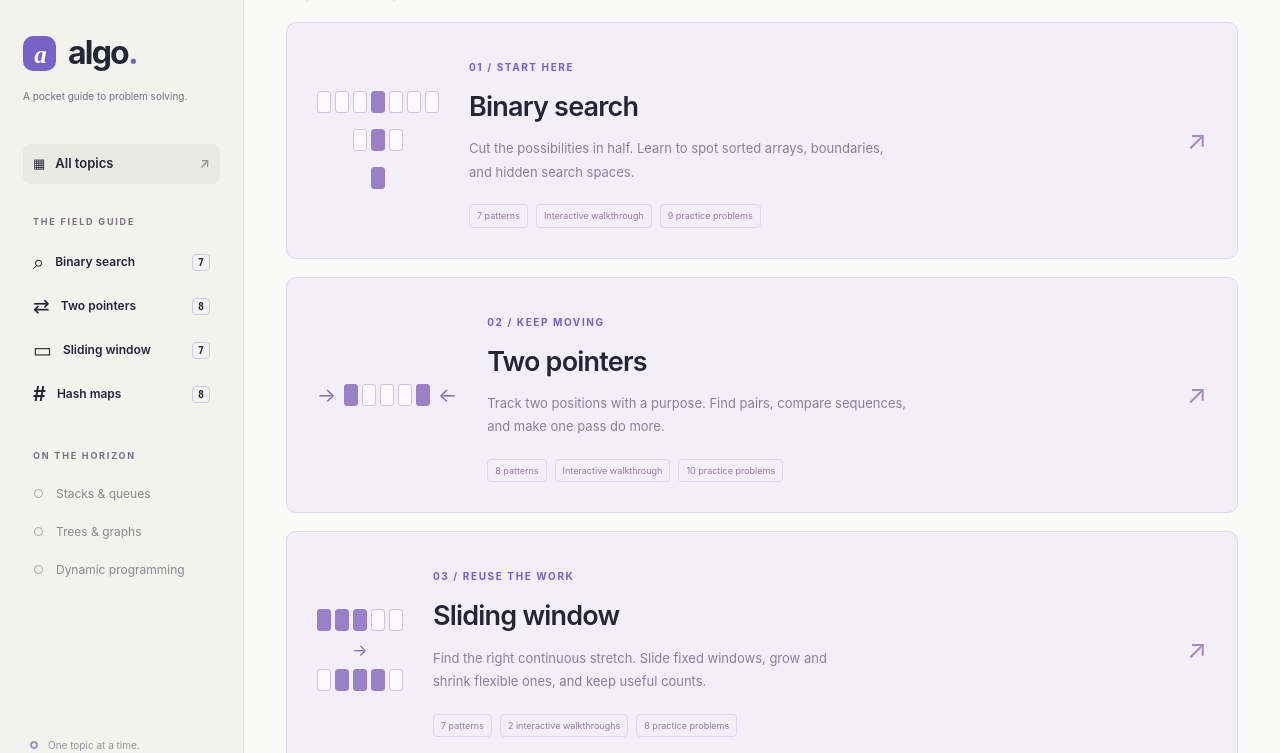
Test: two pointers topic › opens from the topic list and keeps binary search available
The image size is (1280, 753).
(page scrolled)
Click the link "02 / Keep moving": (762, 395) [286,276,1238,513]
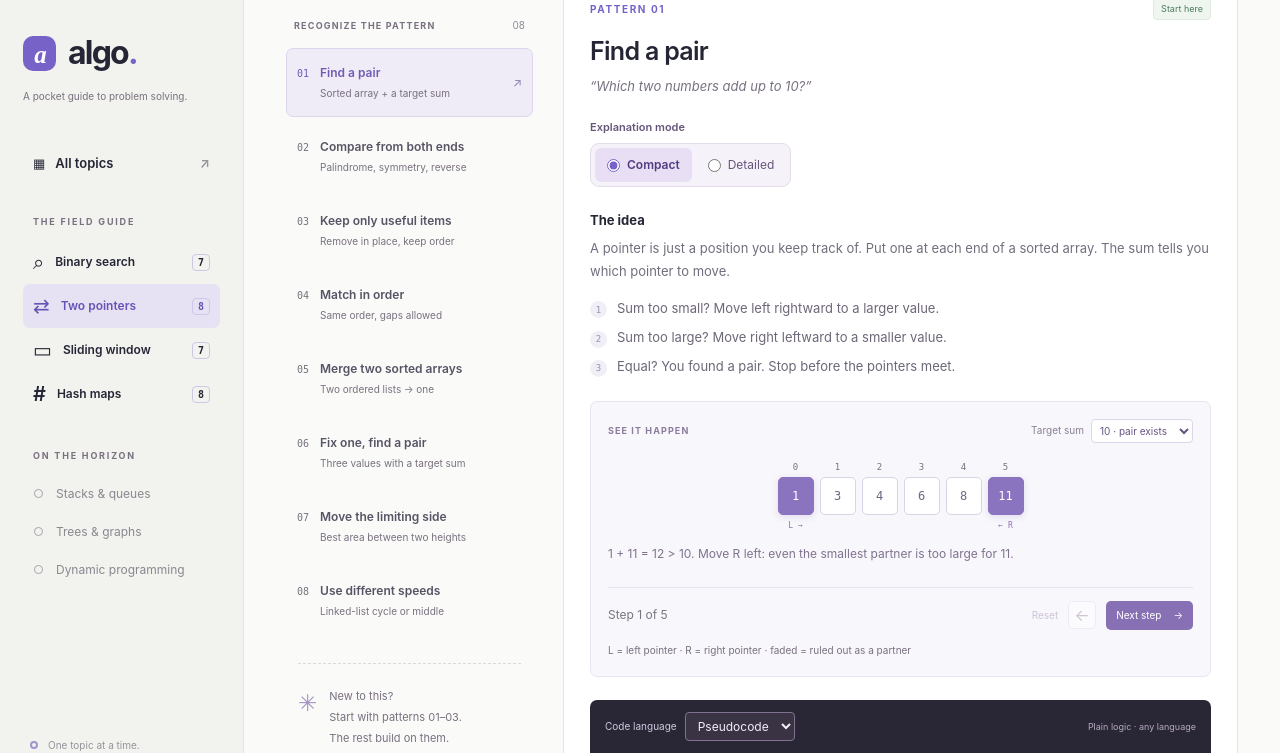
Check: the element named "Interactive two pointers" is shown, box [590,401,1211,677]
Click the link with aria-label "Binary search, 7 patterns": (122, 262) [33,250,210,274]
(page scrolled)
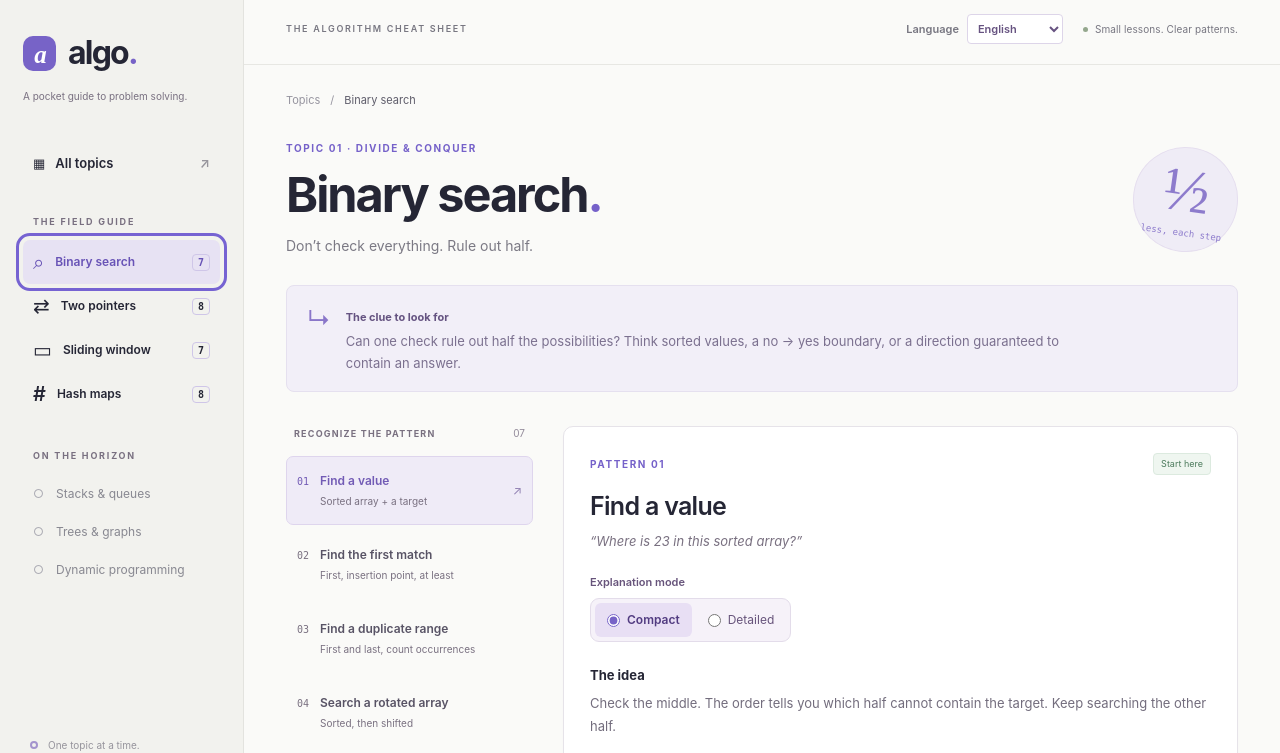
Check: the heading "Binary search." is shown, box [286,166,602,222]
